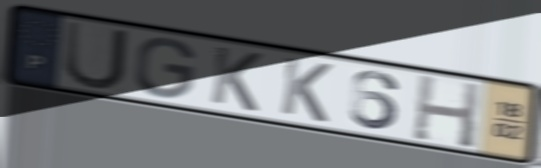6: (348, 70, 402, 131)
G: (132, 36, 199, 101)
H: (408, 71, 484, 152)
K: (207, 43, 265, 115), (277, 54, 335, 126)
U: (62, 18, 132, 93)
